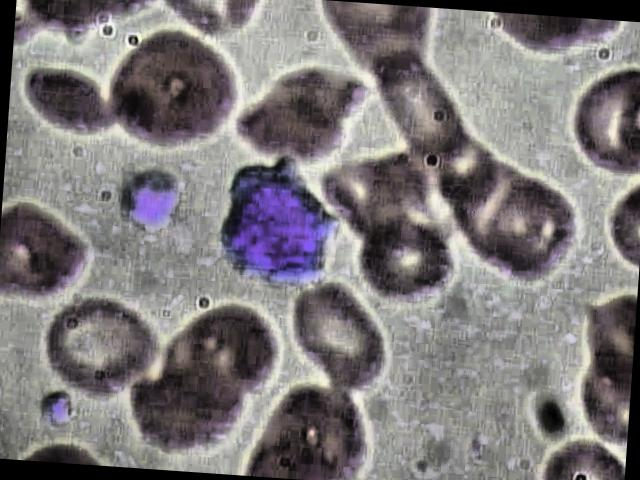Platelets: (106, 156, 186, 234), (38, 382, 78, 430)
RBC: (103, 24, 244, 154), (35, 284, 167, 402), (278, 282, 392, 397), (353, 212, 456, 304), (0, 200, 90, 299), (20, 64, 110, 141)
WBC: (215, 153, 338, 300)
